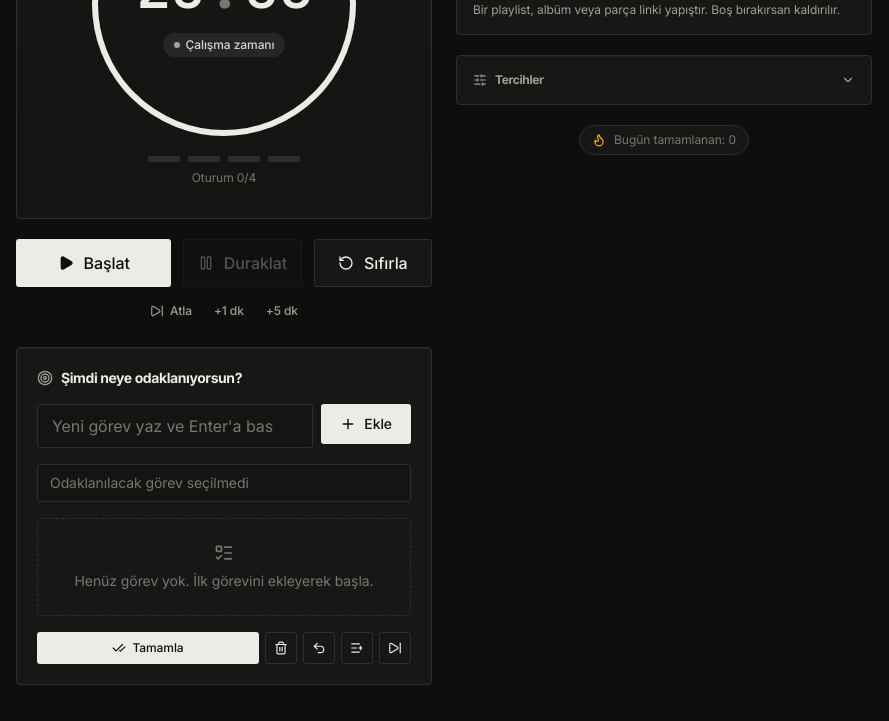
PomodoroApp › clears the footer save warning on the next successful save, keeping the load banner
This screenshot has width=889, height=721.
(page scrolled)
Expected: the button "Başlat" is shown, [16, 239, 171, 287]
# First add → failing save → footer warning appears.
Type "Görev bir" into the field with placeholder "Yeni görev yaz ve Enter'a bas" at x=175, y=426, box [37, 404, 313, 448]
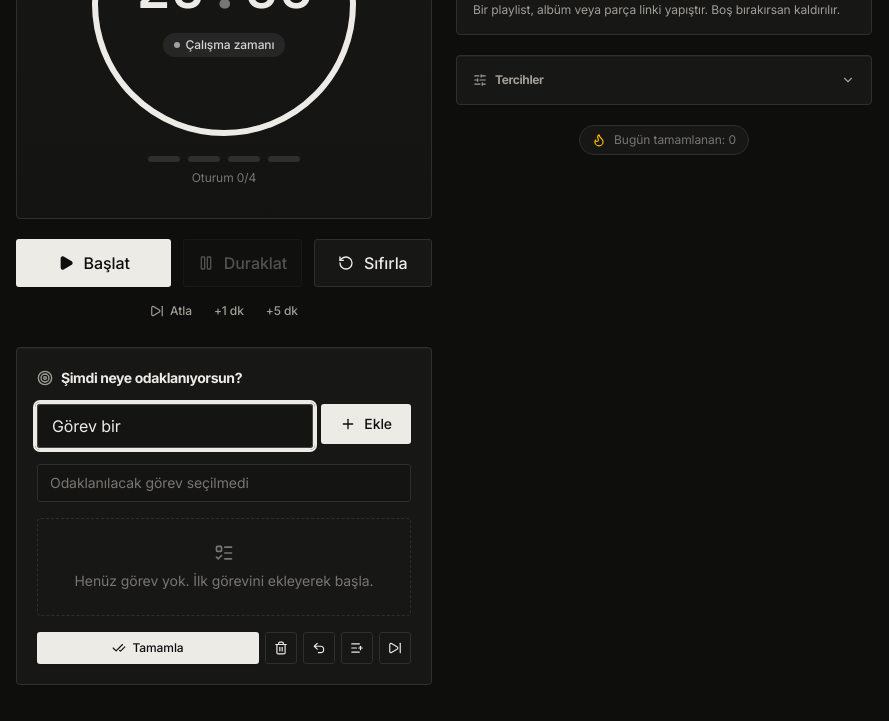
Click the button "Ekle" at x=366, y=424, box [321, 404, 411, 444]
(page scrolled)
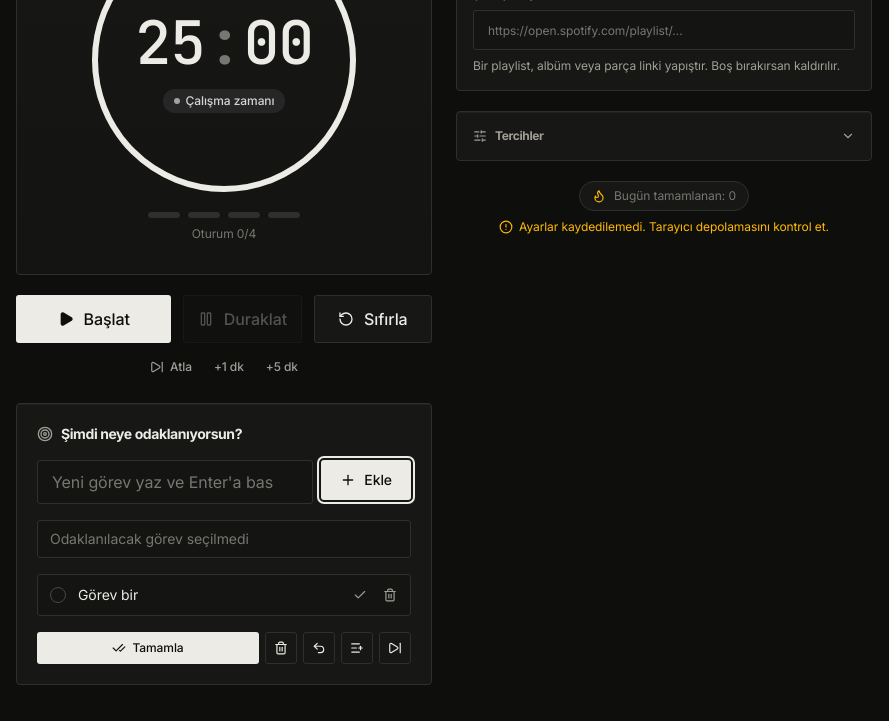
Now the text "Görev bir" is shown, box [78, 586, 138, 603]
Now the message shows "Ayarlar kaydedilemedi", box [519, 219, 829, 234]
# Second add → successful save → warning clears…
Type "Görev iki" into the field with placeholder "Yeni görev yaz ve Enter'a bas" at x=175, y=482, box [37, 460, 313, 504]
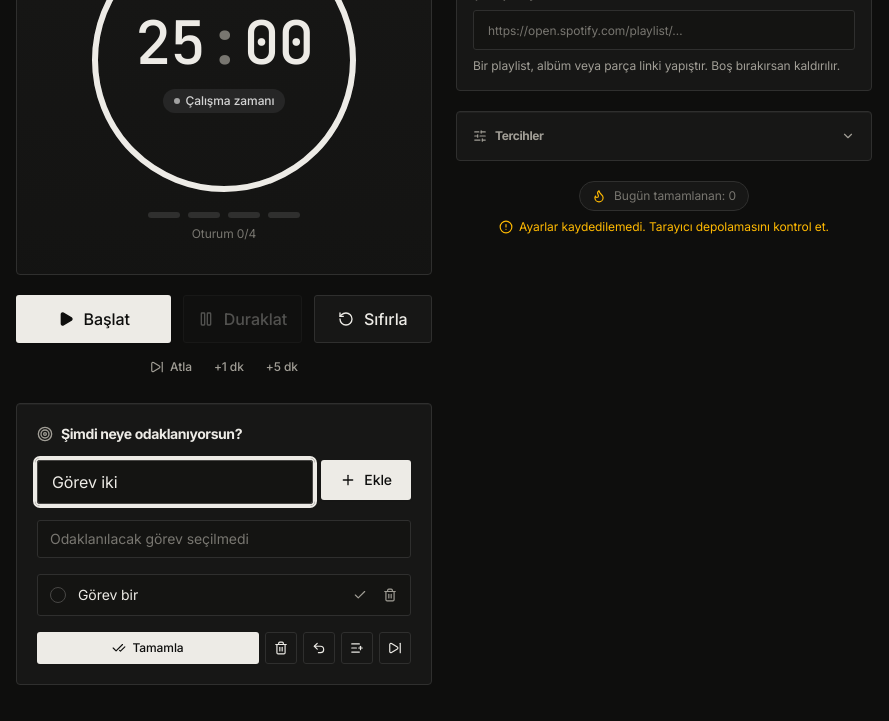
Click the button "Ekle" at x=366, y=480, box [321, 460, 411, 500]
(page scrolled)
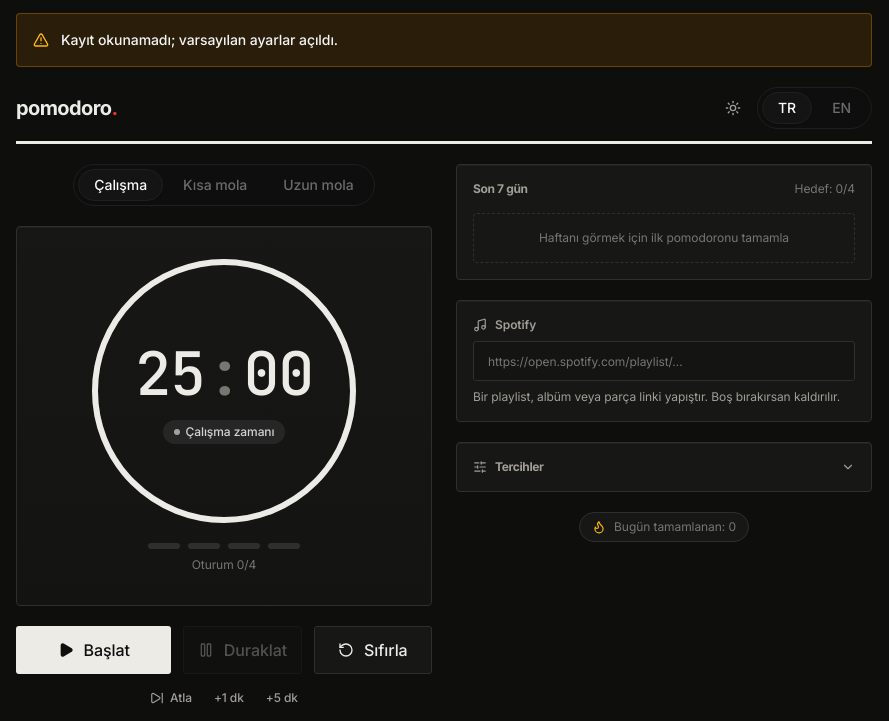
Expected: the text "Kayıt okunamadı; varsayılan ayarlar açıldı." is shown, [61, 31, 338, 48]
Now the message "Ayarlar kaydedilemedi. Tarayıcı depolamasını kontrol et." is gone
